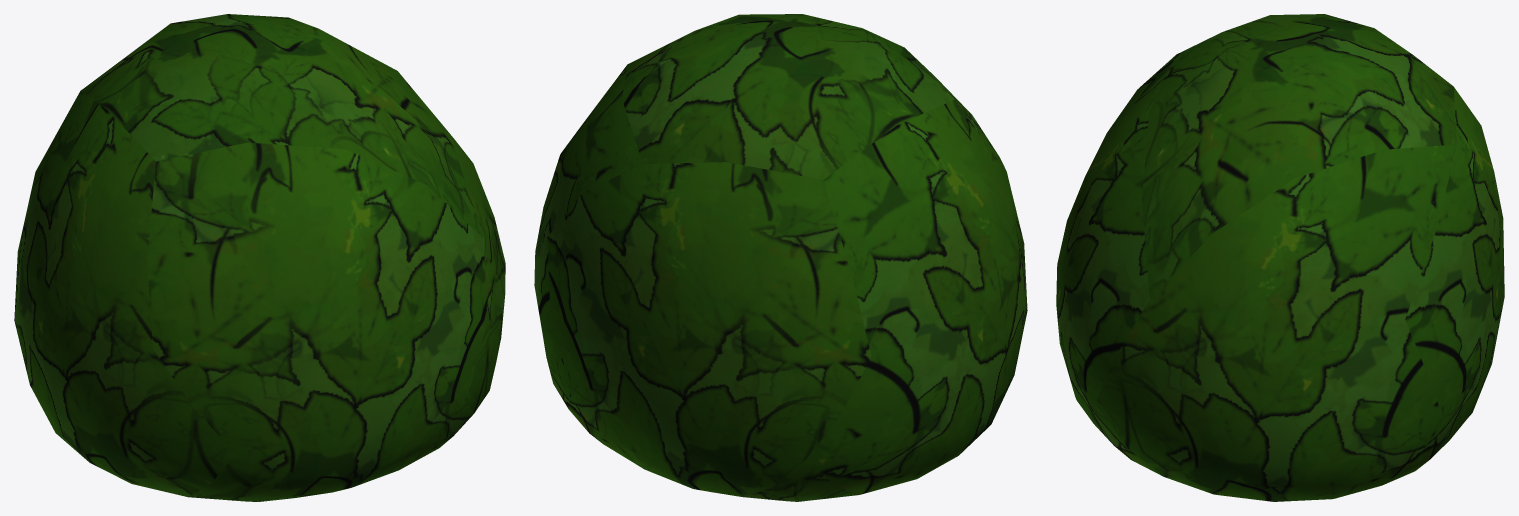
Rendered from SM_Bush_Round_1.fbx.
The picture shows the model from 3 angles, left to right: view 1: azimuth 30°, elevation 25°; view 2: azimuth 150°, elevation 25°; view 3: azimuth 270°, elevation 25°; orthographic projection. The views are drawn at different scales.
Parts seen in each view (by area): view 1: SM_Bush_Round_1; view 2: SM_Bush_Round_1; view 3: SM_Bush_Round_1.
Part boxes in pixels (x1=…): SM_Bush_Round_1: x1=14, y1=14, x2=505, y2=501; SM_Bush_Round_1: x1=534, y1=14, x2=1027, y2=501; SM_Bush_Round_1: x1=1056, y1=14, x2=1504, y2=501.
Size of the model in its own units: 2.27 by 2.08 by 2.04.
